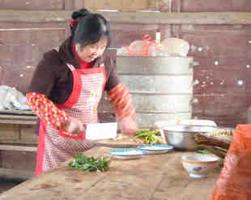person: (26, 9, 139, 177)
